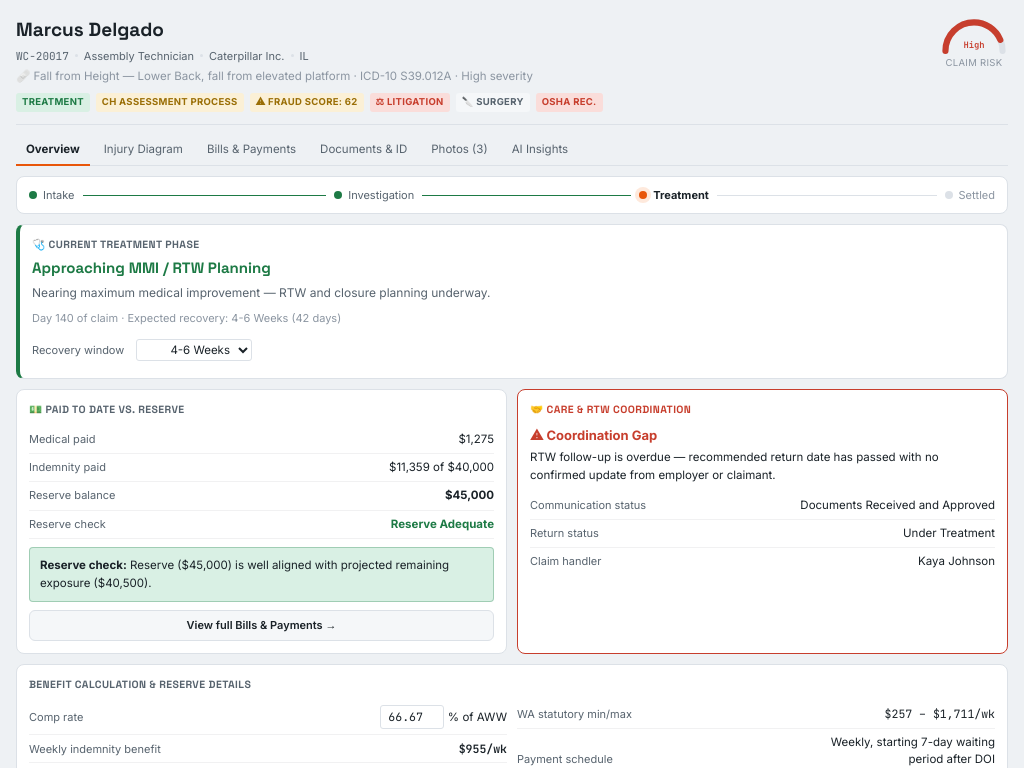
the viewer offers nothing to edit, delete or submit
This screenshot has width=1024, height=768.
Click the tab with test id "tab-photos".
click(459, 150)  # box [421,134,498,166]
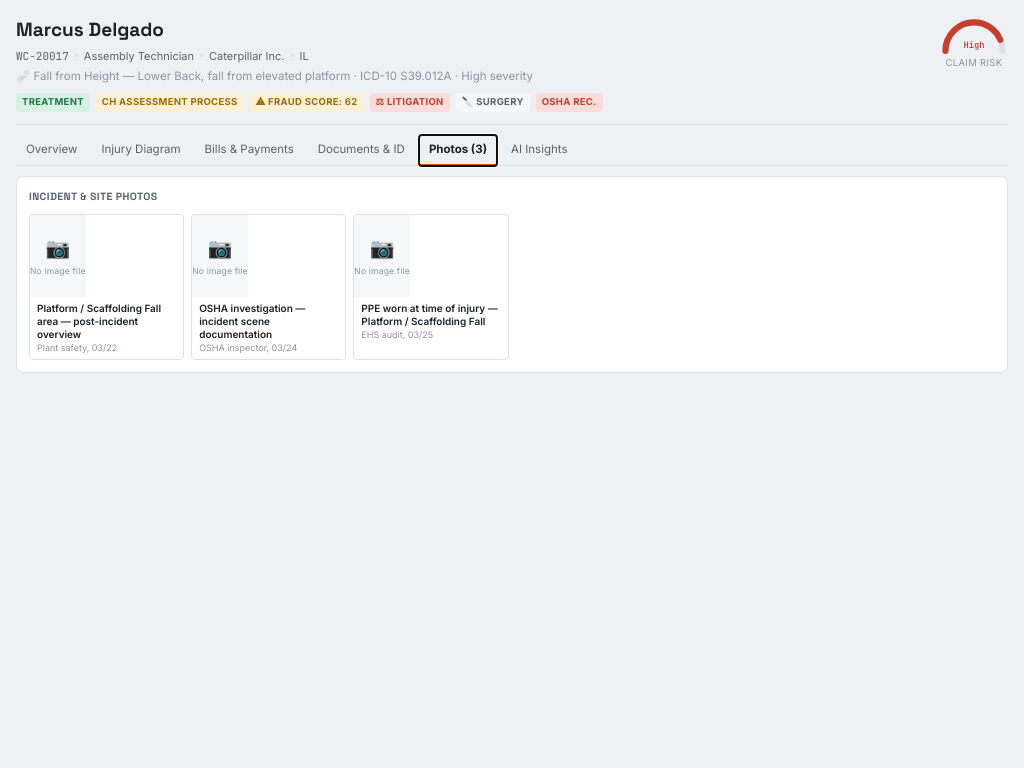
Click the button with test id "photo-card".
click(107, 287)  # box [29,214,184,360]
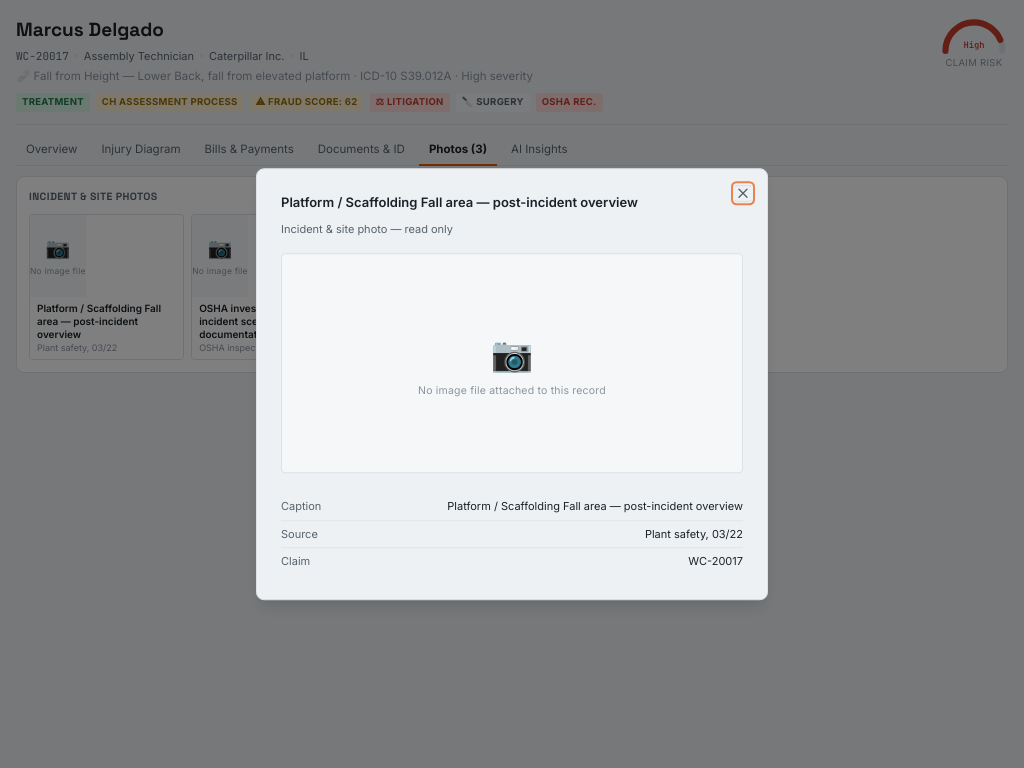
Result: the button named "Close" is shown at [735,185,751,201]
